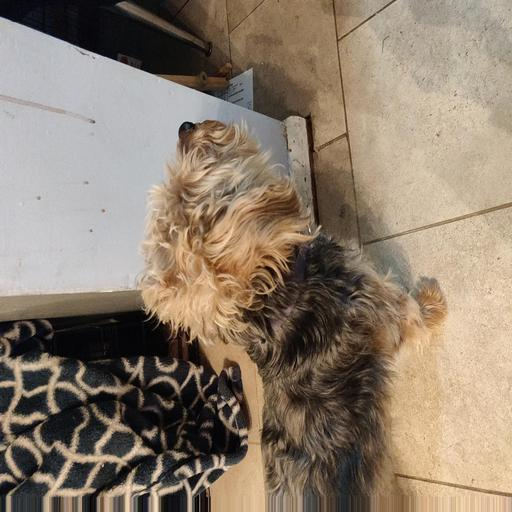dog: (132, 117, 436, 421)
